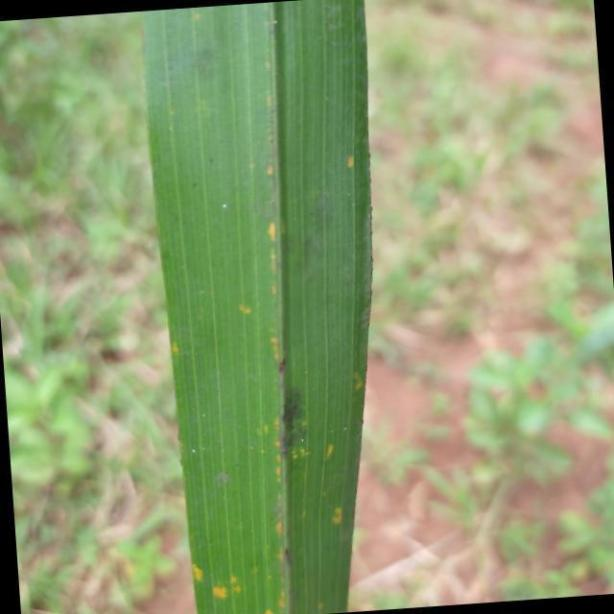Kalium: (139, 1, 375, 614)
